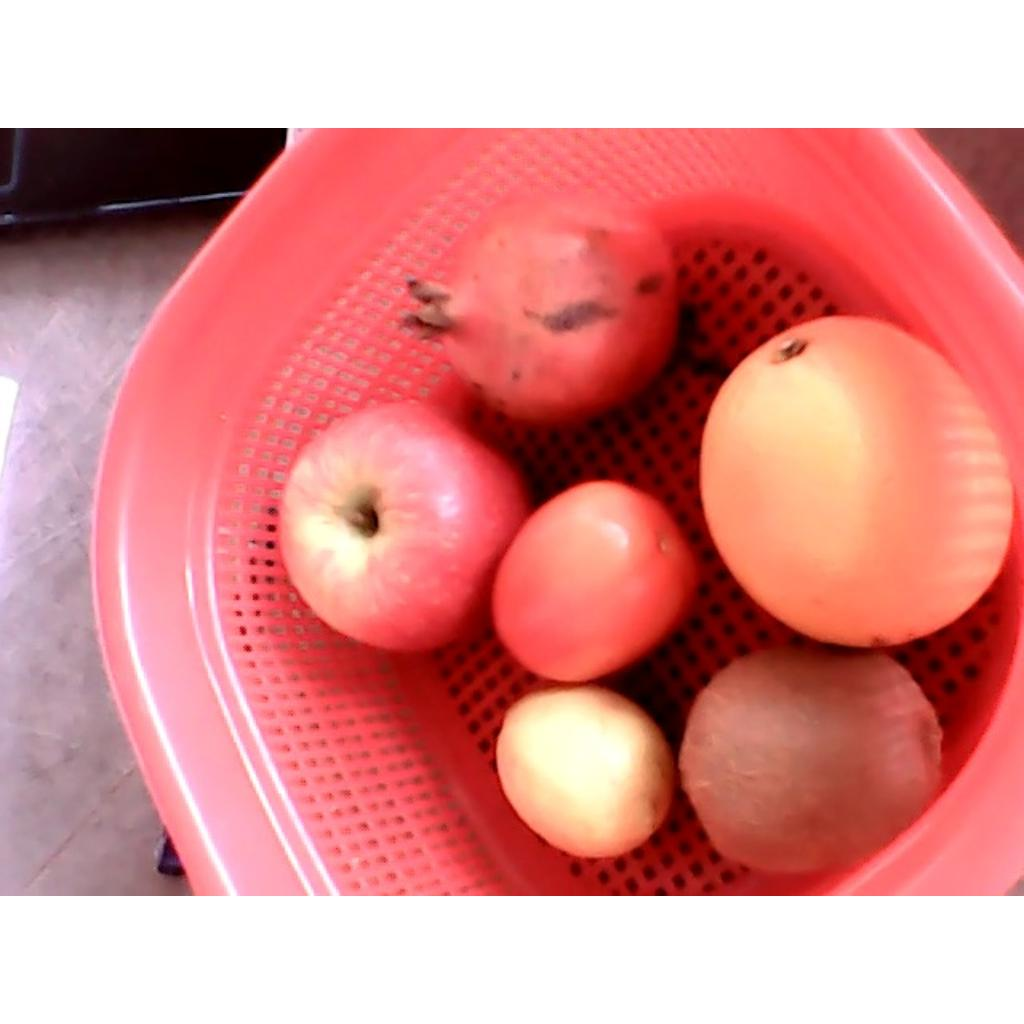apple: (278, 397, 530, 655)
kiwi: (680, 649, 945, 872)
lemon: (495, 683, 677, 858)
orange: (700, 316, 1013, 646)
pomegranate: (398, 192, 679, 426)
tomato: (489, 480, 698, 682)
